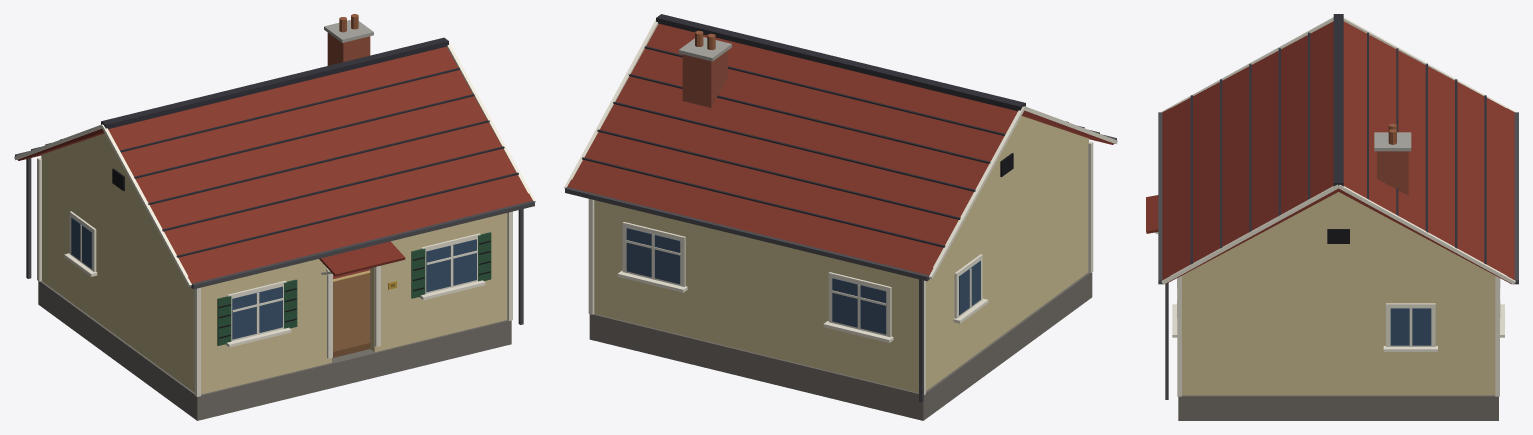
Rendered from house.a.glb.
The picture shows the model from 3 angles, left to right: view 1: azimuth 30°, elevation 25°; view 2: azimuth 150°, elevation 25°; view 3: azimuth 270°, elevation 25°; orthographic projection. The views are drawn at different scales.
Parts seen in each view (by area): view 1: roof-front, wall-left, foundation, wall-front-1, wall-front1, gable-1, ridge, floor, gutter1, wf2.5-glass, wf-2.5-glass, canopy (+25 smaller); view 2: roof-back, wall-back, wall-left, foundation, gable-1, ridge, gutter-1, wb-2.5-glass, wb2.5-glass, chimney, tiles-b1, tiles-b2 (+14 smaller); view 3: wall-right, roof-front, roof-back, gable1, foundation, ridge, ws1-glass, chimney, wall-back, barge1-1, barge11, wall-front1 (+18 smaller).
Part boxes in pixels (left/top/right/bottom): roof-front: left=108, top=46, right=532, bottom=283; wall-left: left=46, top=162, right=193, bottom=391; foundation: left=38, top=281, right=511, bottom=420; wall-front-1: left=193, top=259, right=331, bottom=394; wall-front1: left=370, top=213, right=507, bottom=351; gable-1: left=41, top=133, right=169, bottom=252; ridge: left=101, top=37, right=448, bottom=128; floor: left=332, top=273, right=370, bottom=358; gutter1: left=191, top=200, right=534, bottom=289; wf2.5-glass: left=426, top=239, right=476, bottom=292; wf-2.5-glass: left=232, top=286, right=282, bottom=339; canopy: left=319, top=241, right=405, bottom=276; roof-back: left=567, top=23, right=1017, bottom=275; wall-back: left=594, top=200, right=927, bottom=392; wall-left: left=927, top=146, right=1084, bottom=389; foundation: left=589, top=272, right=1092, bottom=420; gable-1: left=953, top=116, right=1088, bottom=241; ridge: left=656, top=14, right=1025, bottom=111; gutter-1: left=565, top=187, right=929, bottom=281; wb-2.5-glass: left=832, top=278, right=886, bottom=334; wb2.5-glass: left=626, top=228, right=680, bottom=284; chimney: left=682, top=50, right=727, bottom=107; tiles-b1: left=582, top=157, right=945, bottom=247; tiles-b2: left=597, top=129, right=960, bottom=219; wall-right: left=1189, top=272, right=1487, bottom=395; roof-front: left=1162, top=21, right=1341, bottom=284; roof-back: left=1336, top=21, right=1514, bottom=284; gable1: left=1188, top=192, right=1489, bottom=272; foundation: left=1178, top=395, right=1498, bottom=420; ridge: left=1333, top=14, right=1343, bottom=186; ws1-glass: left=1390, top=308, right=1431, bottom=345; chimney: left=1377, top=151, right=1408, bottom=195; wall-back: left=1487, top=272, right=1495, bottom=395; barge1-1: left=1338, top=184, right=1515, bottom=284; barge11: left=1161, top=184, right=1338, bottom=284; wall-front1: left=1182, top=272, right=1189, bottom=395.
Size of the model in its own units: 8.92 by 6.48 by 8.25.
